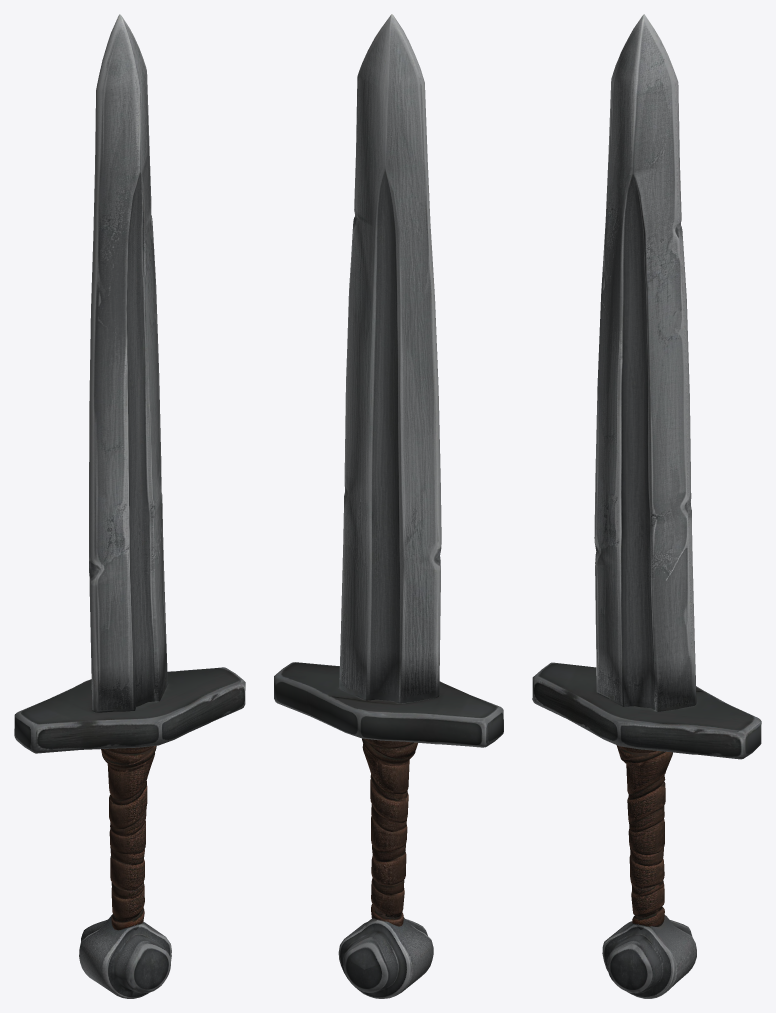
The model's file is weapon-sword-longsword-starter-v001.glb.
3 renders of one model, left to right at view 1: azimuth 30°, elevation 25°; view 2: azimuth 150°, elevation 25°; view 3: azimuth 330°, elevation 25°, orthographic.
Visible parts, largest first — view 1: weapon-sword-longsword-starter-v001; view 2: weapon-sword-longsword-starter-v001; view 3: weapon-sword-longsword-starter-v001.
Part boxes in pixels (<box>): weapon-sword-longsword-starter-v001: <box>14,14,245,998</box>; weapon-sword-longsword-starter-v001: <box>274,14,503,998</box>; weapon-sword-longsword-starter-v001: <box>532,14,761,998</box>.
Size of the model in its own units: 0.2416 by 1.05 by 0.1143.
Materials: 1 (1 with a texture image).
